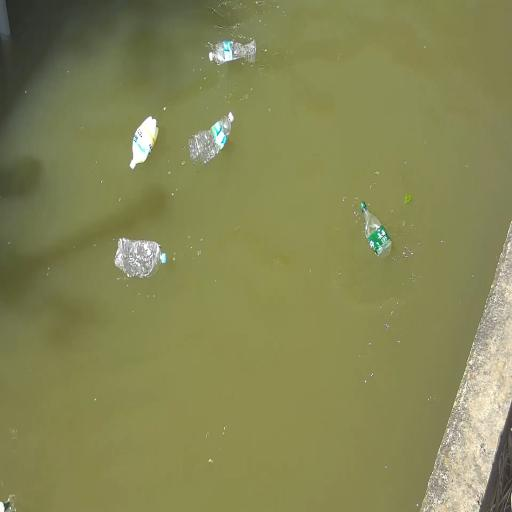plastic: (189, 112, 233, 164), (115, 238, 166, 278), (361, 202, 391, 257), (130, 117, 158, 169), (209, 40, 256, 64), (0, 500, 10, 511)
